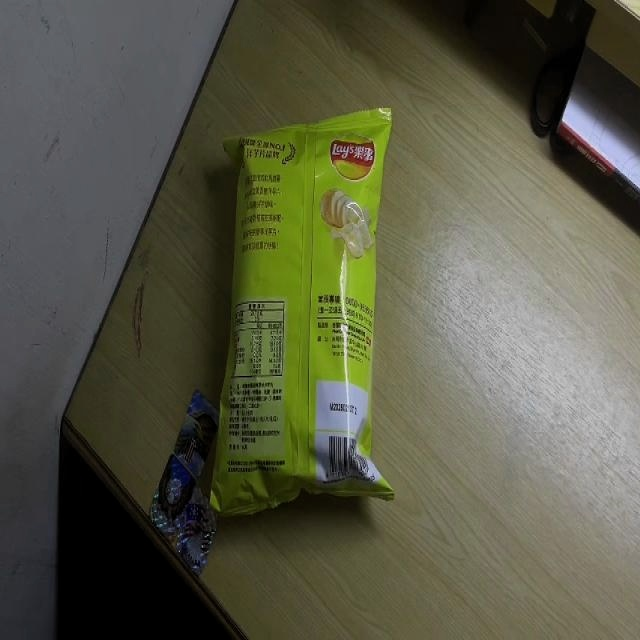Lay-s-original: (208, 105, 396, 514)
